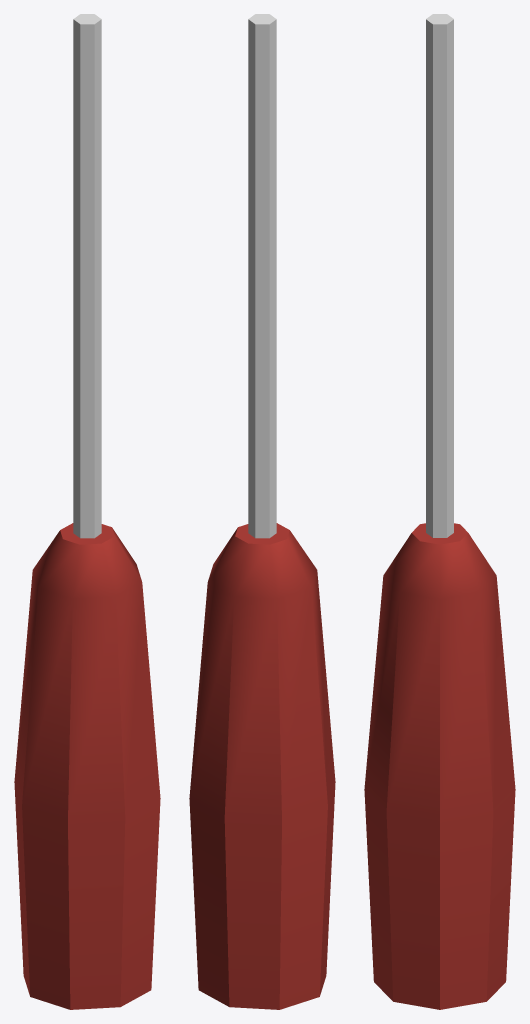
The model's file is SM_Tool_Screwdriver.fbx.
3 views of the same model, side by side, from view 1: azimuth 30°, elevation 25°; view 2: azimuth 150°, elevation 25°; view 3: azimuth 270°, elevation 25° (orthographic).
Parts seen in each view (by area): view 1: SM_Tool_Screwdriver_1; view 2: SM_Tool_Screwdriver_1; view 3: SM_Tool_Screwdriver_1.
Part boxes in pixels (x1,y1,x2,y2): SM_Tool_Screwdriver_1: (14,14,160,1009); SM_Tool_Screwdriver_1: (189,14,335,1009); SM_Tool_Screwdriver_1: (364,14,515,1009).
Bounding box in the file's own units: 3.2 × 23 × 3.2.
